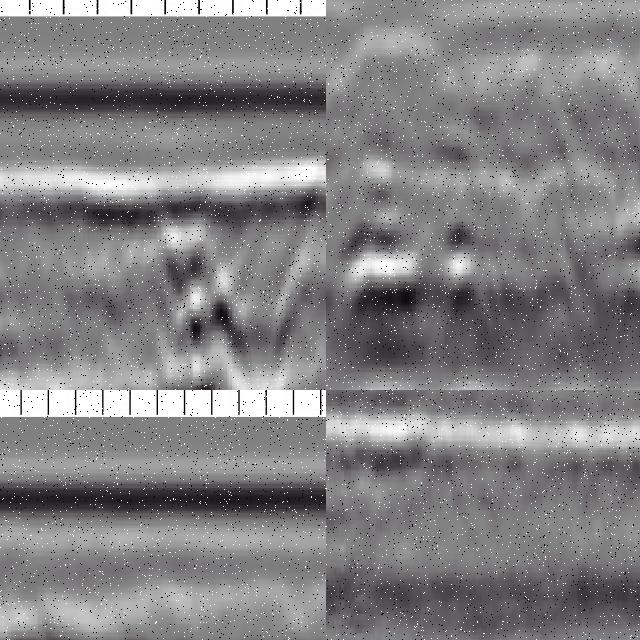loose: (89, 159, 327, 391), (327, 160, 487, 329)
